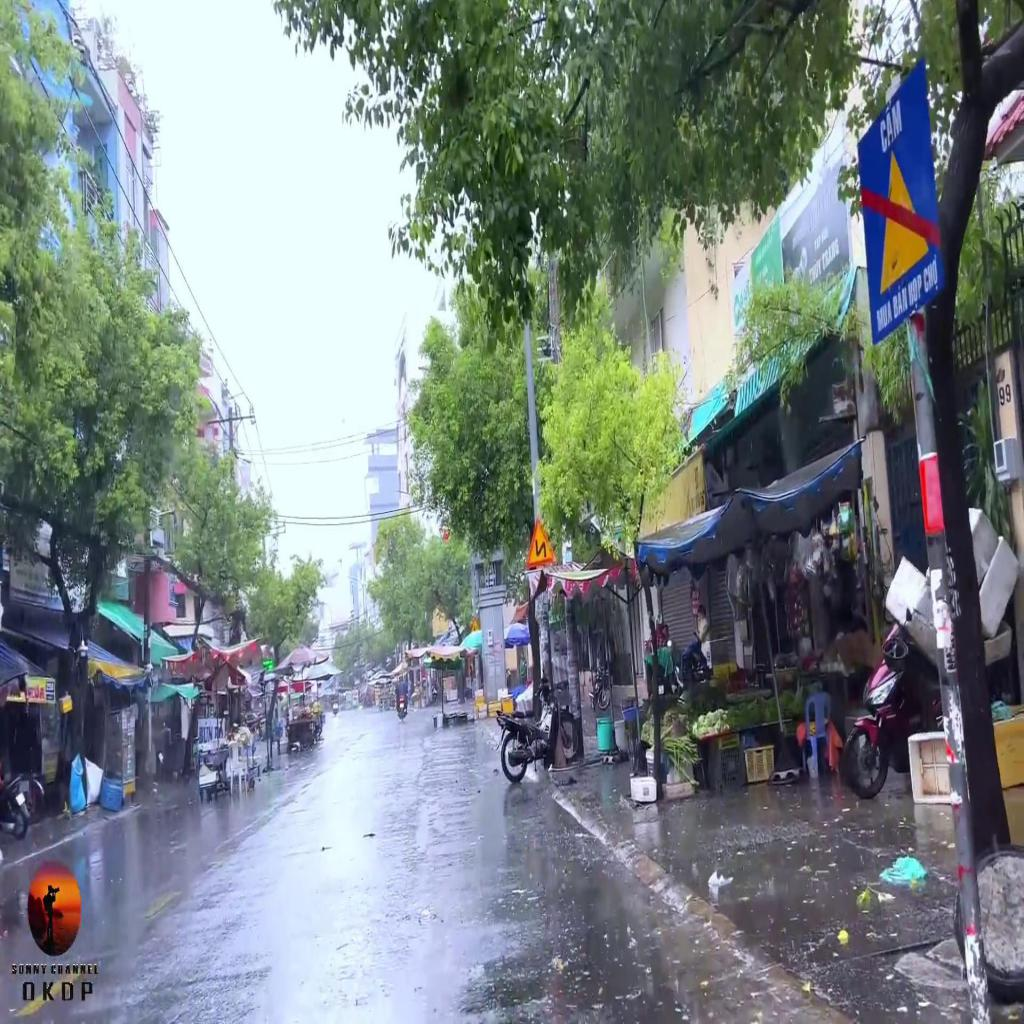cho_ngoat_nguy_hiem_lien_tiep: (528, 517, 555, 566)
